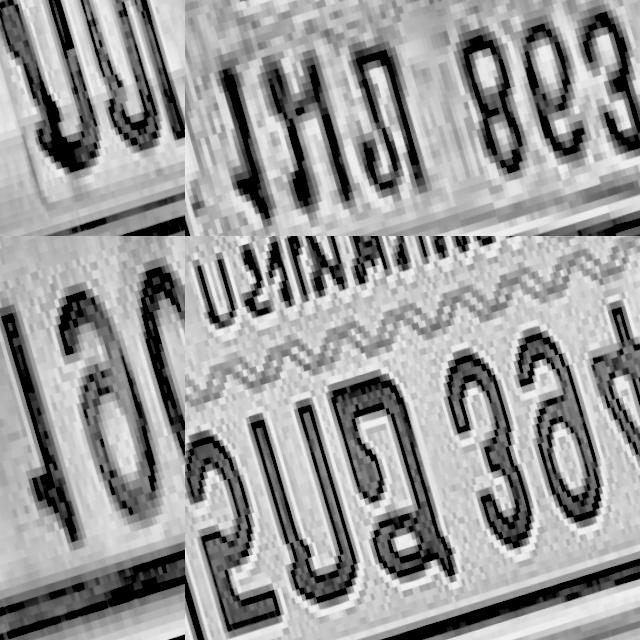license-plate: (185, 236, 640, 640), (185, 0, 640, 236), (0, 236, 185, 640), (0, 0, 185, 236)
